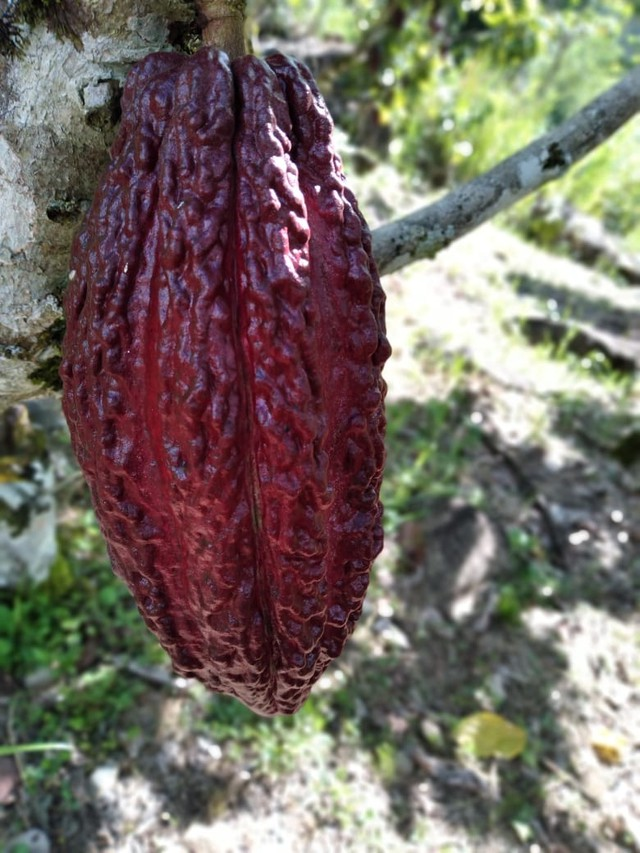Health: (43, 38, 399, 728)
